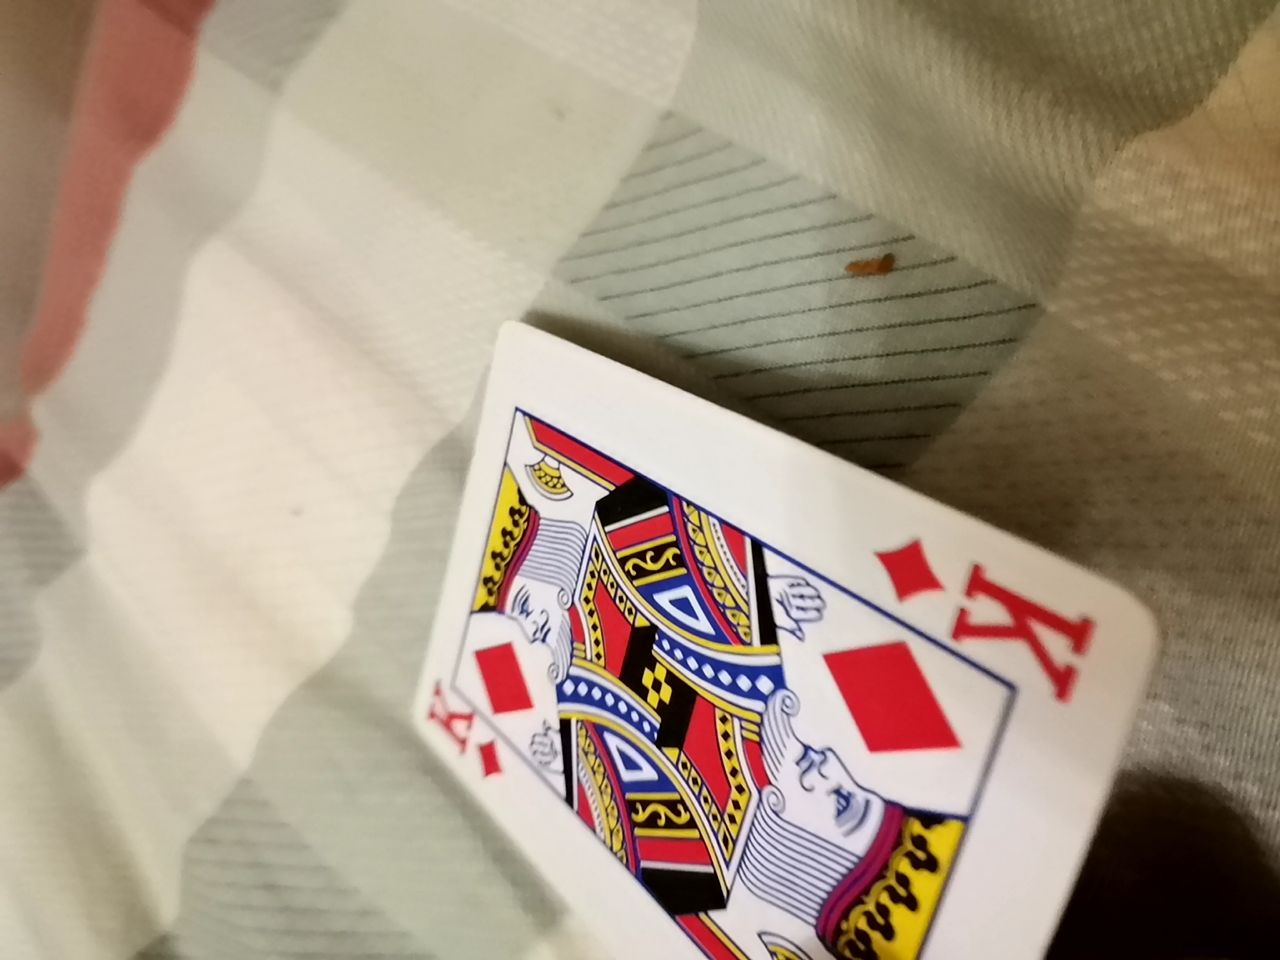fk k: (387, 332, 1108, 959)
